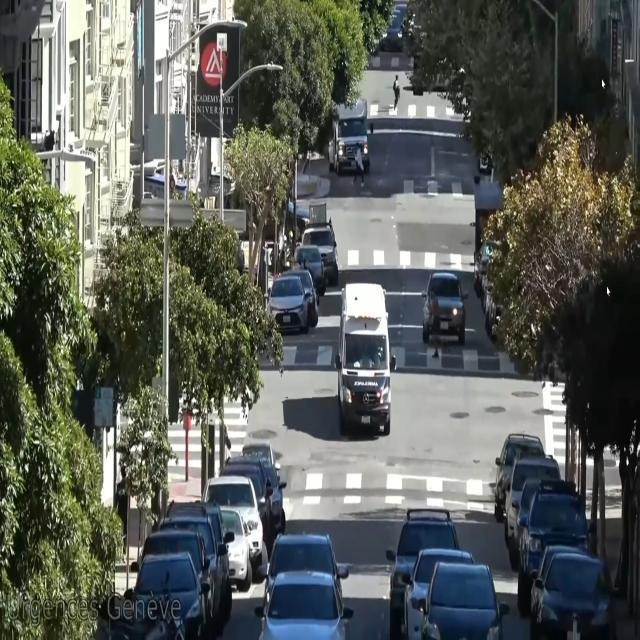emergency: (330, 285, 400, 439)
